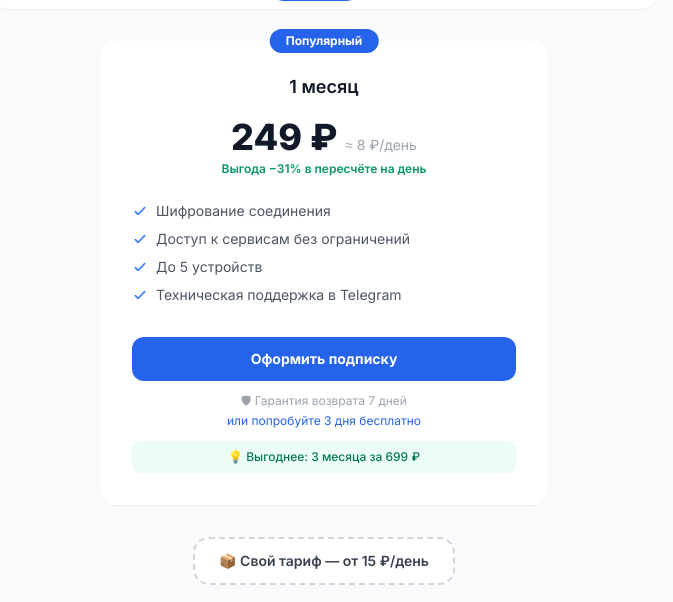
Scenario: TariffsSection › the custom-tariff toggle shows 'Свой тариф' and links to /payment/custom:30
This screenshot has width=673, height=602.
(page scrolled)
Click the button "📦 Свой тариф — от 15 ₽/день": [324, 561] box [193,537,455,585]
(page scrolled)
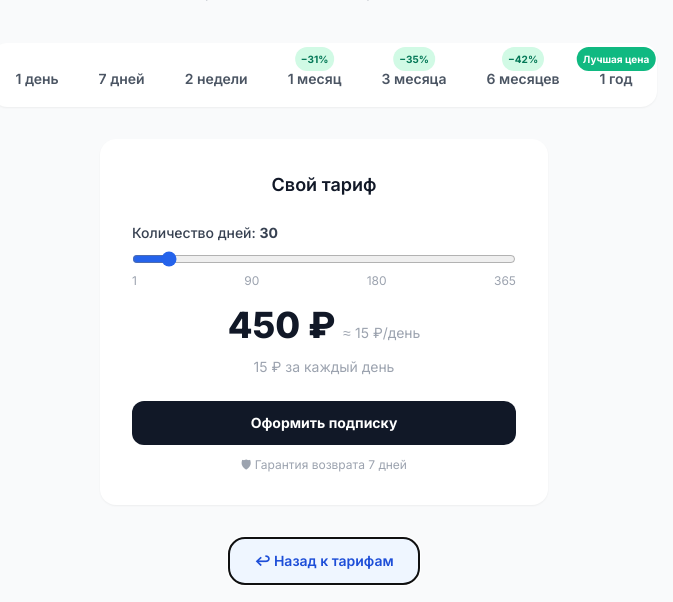
Result: the heading "Свой тариф" is shown at [272,174,376,195]
